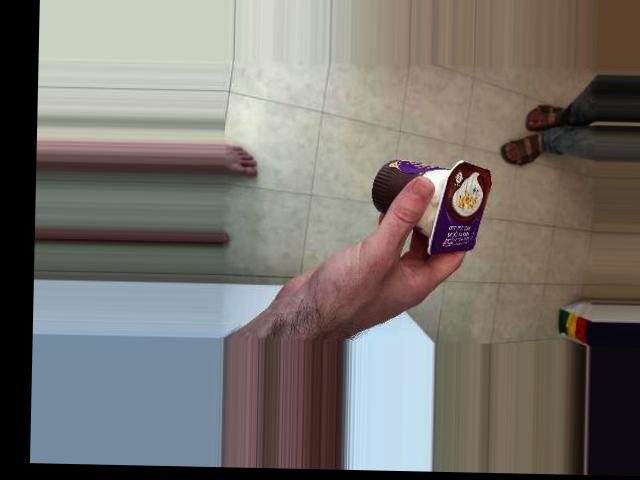milky: (411, 115, 501, 241)
